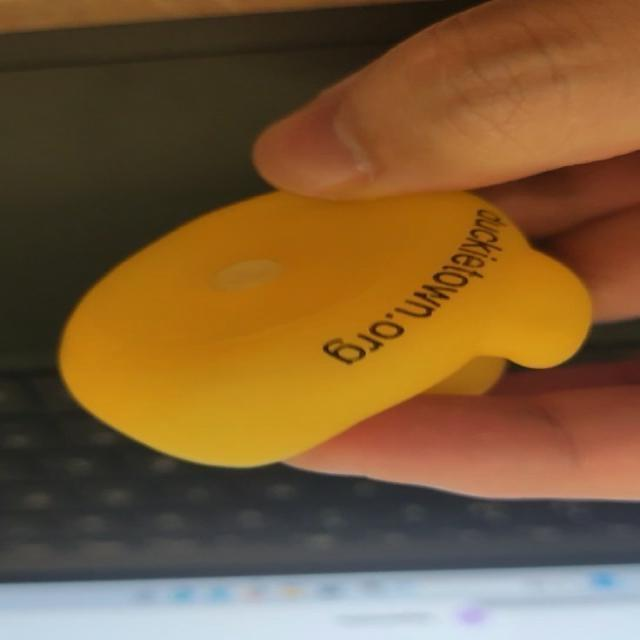rubber-duck: (58, 191, 589, 465)
